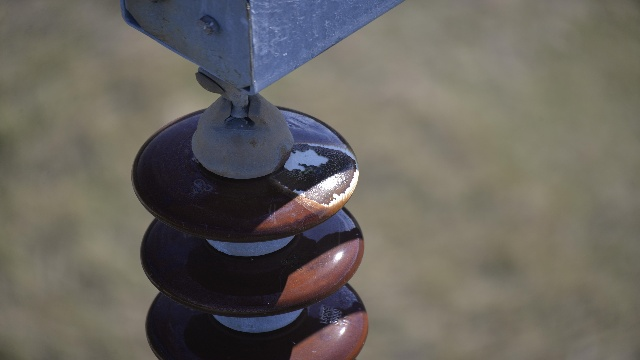insulator_unspecified: (129, 106, 370, 359)
pollution_flashover_local: (270, 139, 363, 217)
